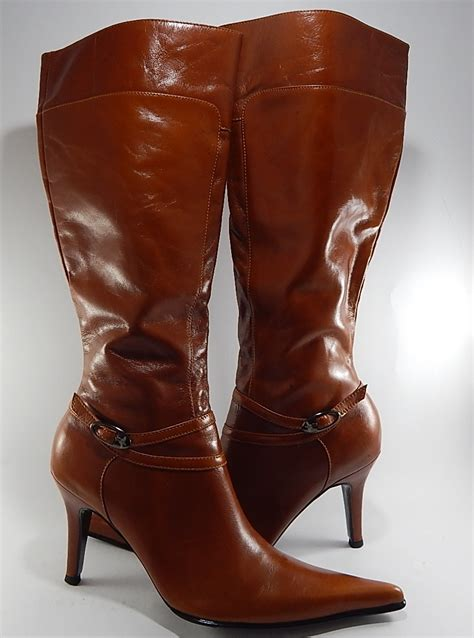cuero: (35, 10, 405, 626)
